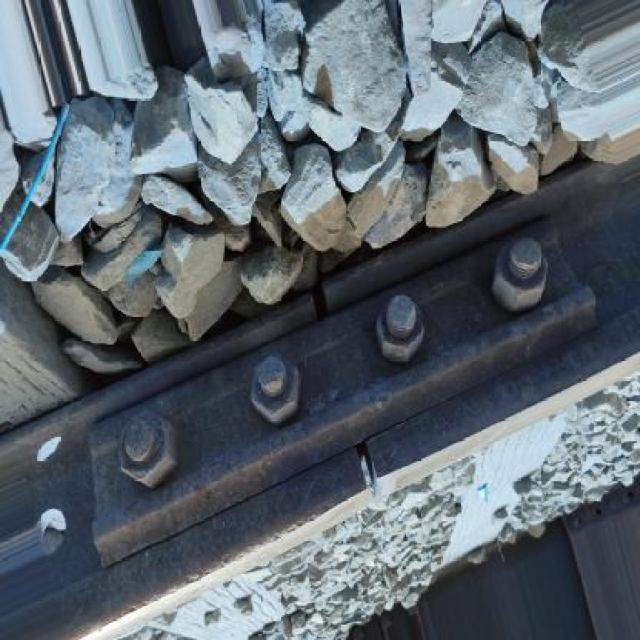defective: (1, 254, 640, 640)
